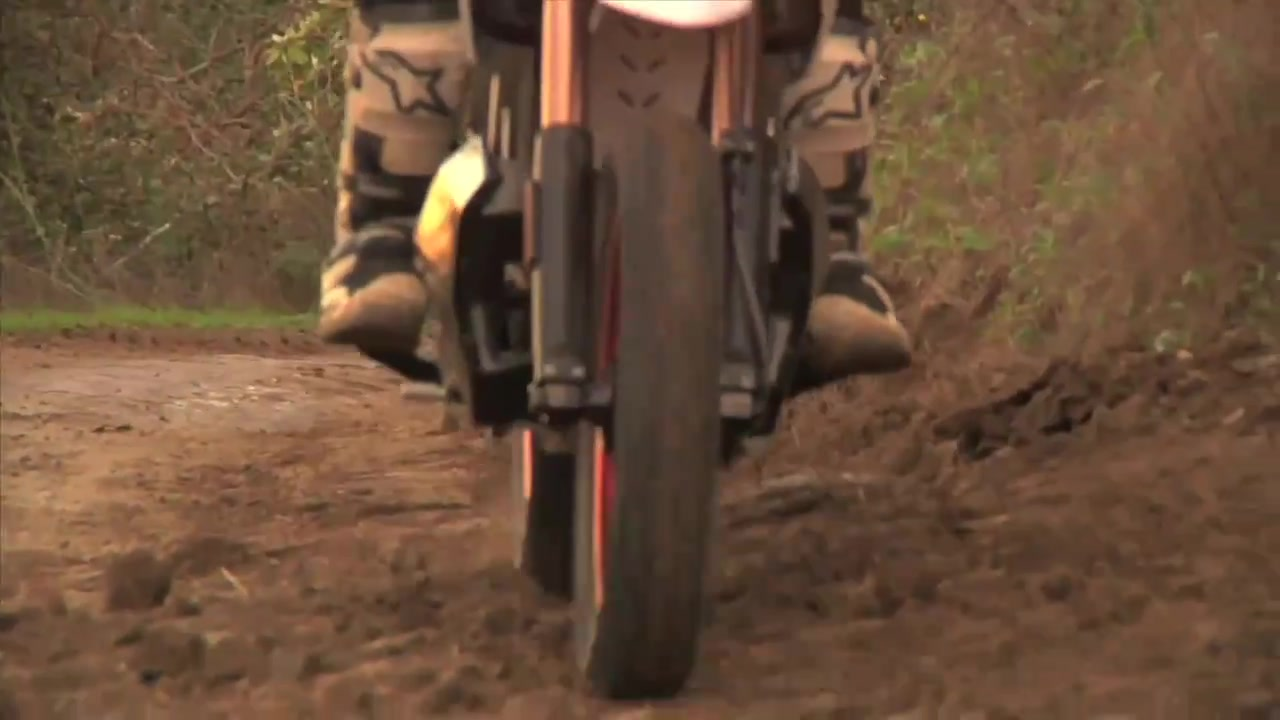motorbike: (441, 5, 831, 708)
